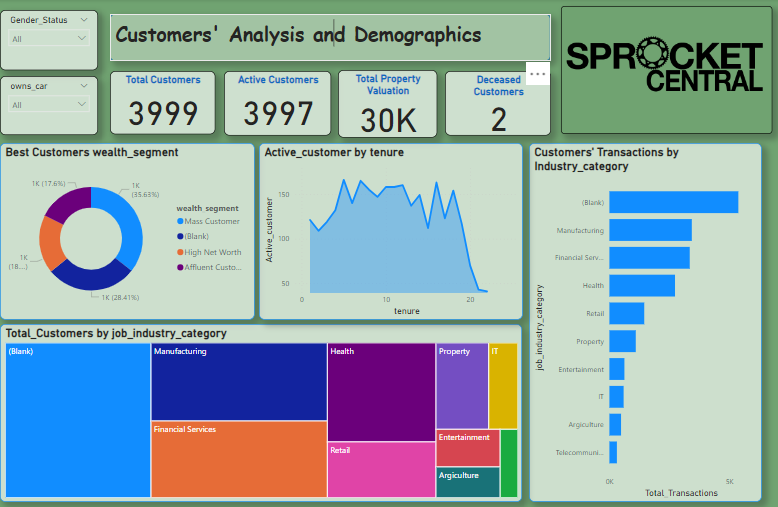

The dashboard page shown, as its layout file describes it:
{"tool":"powerbi","page":{"name":"Customer_Demographics","canvas":[1280,834],"ordinal":1},"visuals":[{"type":"card","title":"Total Customers","fields":{"Values":["CustomerAddress.Total_Customers"]},"box":[181.2,117.4,172.8,104],"z":0},{"type":"card","title":"Active Customers","fields":{"Values":["CustomerAddress.Active_customer"]},"box":[367.4,117.4,176.1,105.7],"z":1000},{"type":"donutChart","title":"Best Customers wealth_segment","fields":{"Category":["CustomerDemographic.wealth_segment"],"Y":["CustomerAddress.Total_Customers"]},"box":[0,236.5,417.7,290.2],"z":2000},{"type":"clusteredBarChart","title":"Customers'' Transactions by Industry_category","fields":{"Category":["CustomerDemographic.job_industry_category"],"Y":["CustomerAddress.Total_Transactions"]},"box":[869,236.5,382.5,588.8],"z":3000},{"type":"image","box":[921,11.7,347.3,209.7],"z":4000},{"type":"treemap","fields":{"Values":["CustomerAddress.Total_Customers"],"Group":["CustomerDemographic.job_industry_category"]},"box":[0,533.5,857.2,291.9],"z":5000},{"type":"slicer","fields":{"Values":["CustomerDemographic.Gender_Status"]},"box":[0,18.5,161,99],"z":6000},{"type":"slicer","fields":{"Values":["CustomerDemographic.owns_car"]},"box":[0,125.8,161,97.3],"z":7000},{"type":"card","title":" Total Property Valuation","fields":{"Values":["Sum(CustomerAddress.property_valuation)"]},"box":[555.3,115.8,162.7,110.7],"z":8000},{"type":"card","title":"Deceased Customers","fields":{"Values":["NewCustomerList.Total_Deceased Customers"]},"box":[729.8,117.4,174.5,105.7],"z":9000},{"type":"areaChart","fields":{"Category":["CustomerDemographic.tenure"],"Y":["CustomerAddress.Active_customer"]},"box":[424.4,236.5,432.8,290.2],"z":10000},{"type":"textbox","box":[181.2,25.2,723,77.2],"z":11000}]}

Visuals, with their boxes in screenshot pixels (x1, y1, x2, y2), scaled from the page's 1280x834 canvas onto the 778x507 screenshot:
"Total Customers" card: BBox(110, 71, 215, 135)
"Active Customers" card: BBox(223, 71, 330, 136)
"Best Customers wealth_segment" donutChart: BBox(0, 144, 254, 320)
"Customers'' Transactions by Industry_category" clusteredBarChart: BBox(528, 144, 761, 502)
image: BBox(560, 7, 771, 135)
treemap - CustomerAddress.Total_Customers x CustomerDemographic.job_industry_category: BBox(0, 324, 521, 502)
slicer - CustomerDemographic.Gender_Status: BBox(0, 11, 98, 71)
slicer - CustomerDemographic.owns_car: BBox(0, 76, 98, 136)
" Total Property Valuation" card: BBox(338, 70, 436, 138)
"Deceased Customers" card: BBox(444, 71, 550, 136)
areaChart - CustomerDemographic.tenure x CustomerAddress.Active_customer: BBox(258, 144, 521, 320)
textbox: BBox(110, 15, 550, 62)
